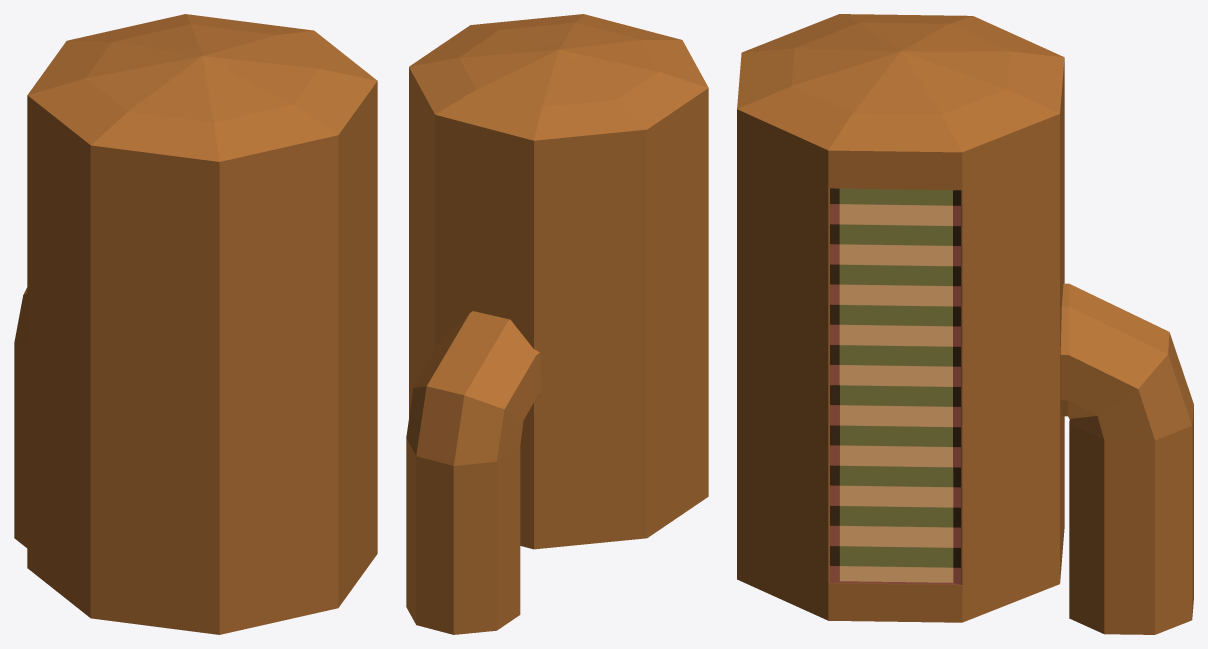
Rendered from VAT200.glb.
The picture shows the model from 3 angles, left to right: view 1: azimuth 30°, elevation 25°; view 2: azimuth 150°, elevation 25°; view 3: azimuth 270°, elevation 25°; orthographic projection. The views are drawn at different scales.
Parts seen in each view (by area): view 1: Cylinder, Cylinder.001; view 2: Cylinder, Cylinder.001; view 3: Cylinder, glass, liquidHeight, Cylinder.001.
Part boxes in pixels (x1,y1,x2,y2): Cylinder: [27, 14, 377, 634]; Cylinder.001: [14, 287, 27, 547]; Cylinder: [409, 14, 708, 549]; Cylinder.001: [406, 311, 541, 634]; Cylinder: [737, 14, 1064, 622]; glass: [830, 188, 960, 584]; liquidHeight: [840, 189, 952, 582]; Cylinder.001: [1060, 283, 1193, 634].
Bounding box in the file's own units: 1.82 × 3.44 × 2.54.
4 materials, 1 textured.
